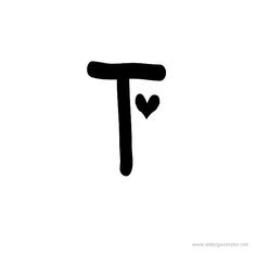t: (66, 48, 196, 186)
